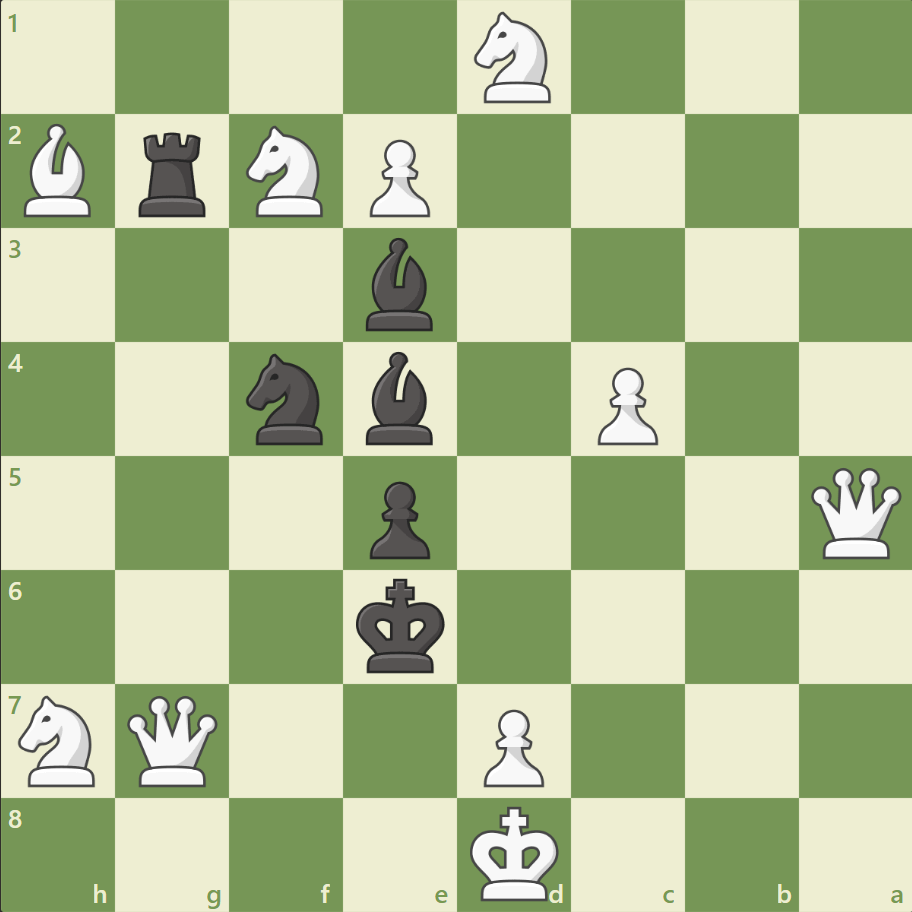B: (17, 120, 101, 222)
K: (465, 798, 565, 906)
N: (11, 688, 108, 791), (465, 7, 562, 110), (238, 121, 335, 223)
P: (474, 700, 549, 791), (588, 359, 662, 450), (361, 132, 435, 223)
Q: (124, 690, 223, 789), (805, 463, 904, 562)
b: (358, 233, 442, 336), (358, 347, 442, 449)
k: (351, 571, 451, 679)
n: (238, 348, 335, 450)
p: (361, 473, 435, 564)
r: (133, 125, 215, 222)
